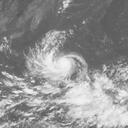cyclone: (25, 30, 88, 84)
